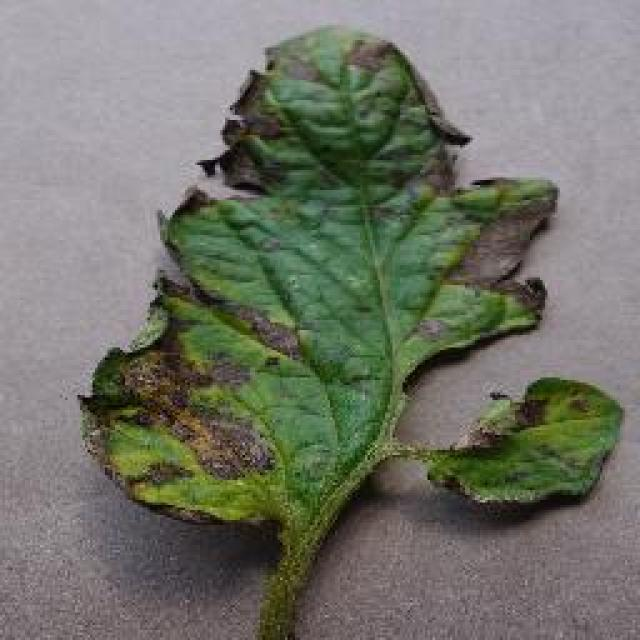Tomato___Early_blight: (72, 24, 631, 638)
